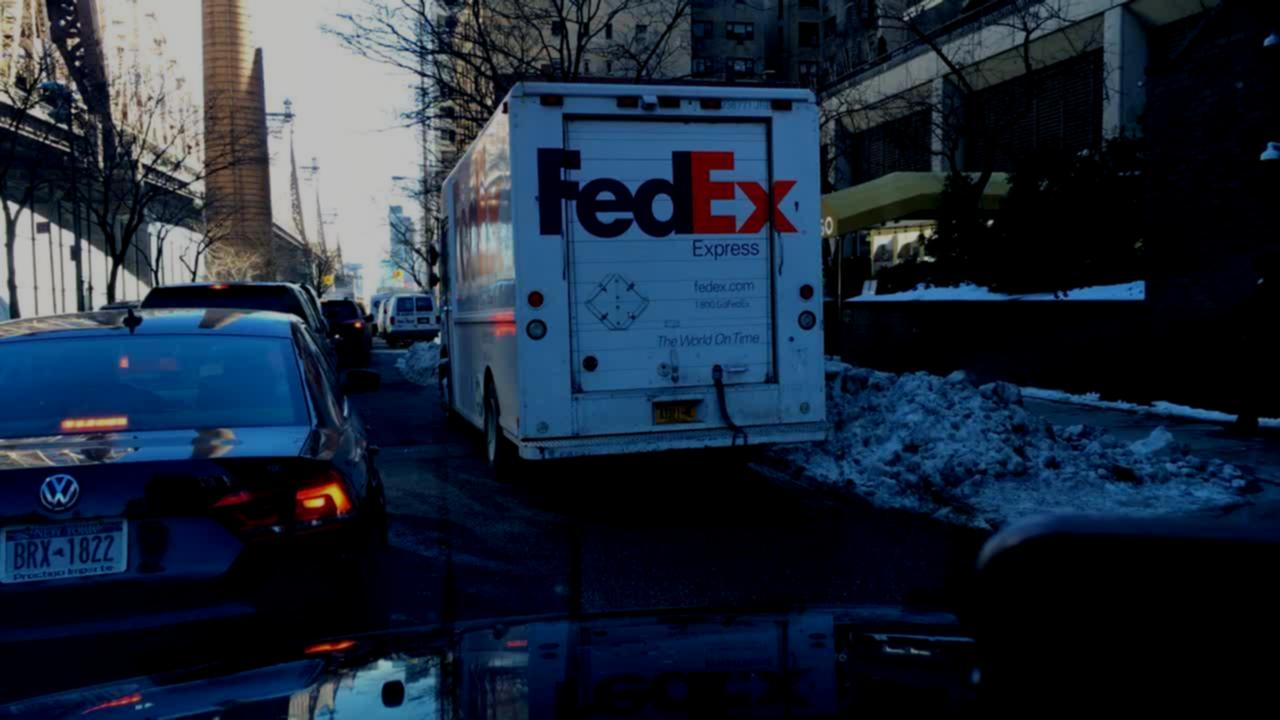Volkswagen: (35, 460, 94, 523)
